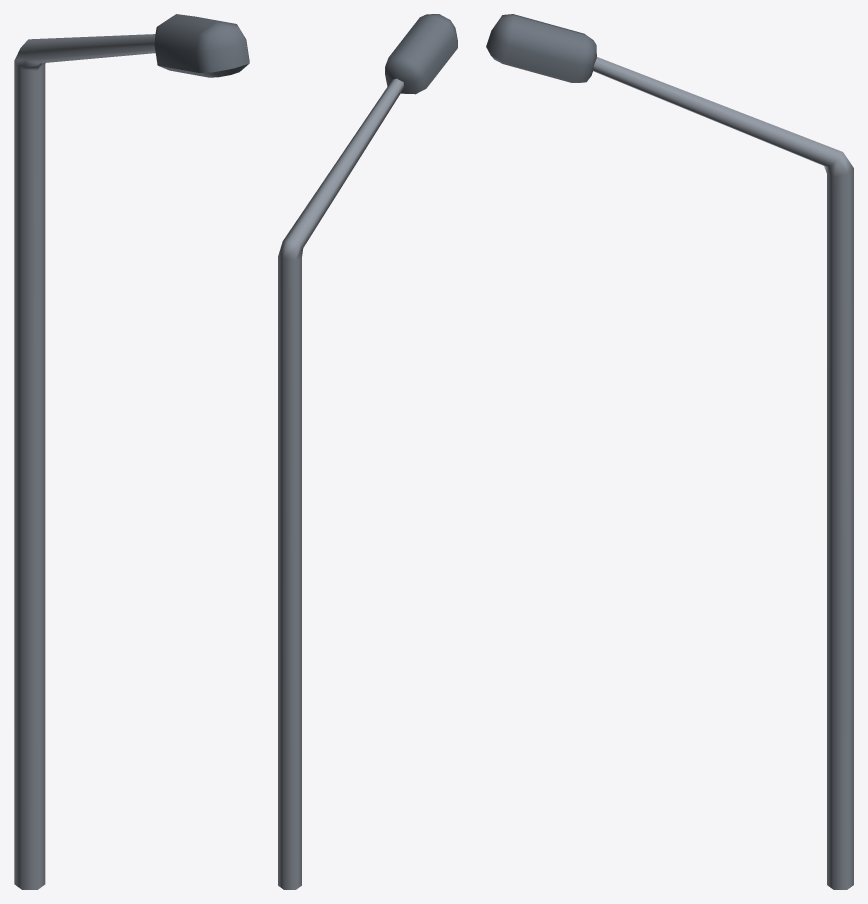
File: spotlight_01_pacote.glb
The picture shows the model from 3 angles, left to right: view 1: azimuth 30°, elevation 25°; view 2: azimuth 150°, elevation 25°; view 3: azimuth 270°, elevation 25°; orthographic projection. The views are drawn at different scales.
Parts seen in each view (by area): view 1: spotlight_01_pacote; view 2: spotlight_01_pacote; view 3: spotlight_01_pacote.
Part boxes in pixels (box(x1,y1,x2,y2)): spotlight_01_pacote: box(14, 14, 249, 889); spotlight_01_pacote: box(278, 14, 457, 889); spotlight_01_pacote: box(486, 14, 853, 889).
Bounding box in the file's own units: 0.4426 × 8.3 × 3.19.
2 materials, 1 textured.
